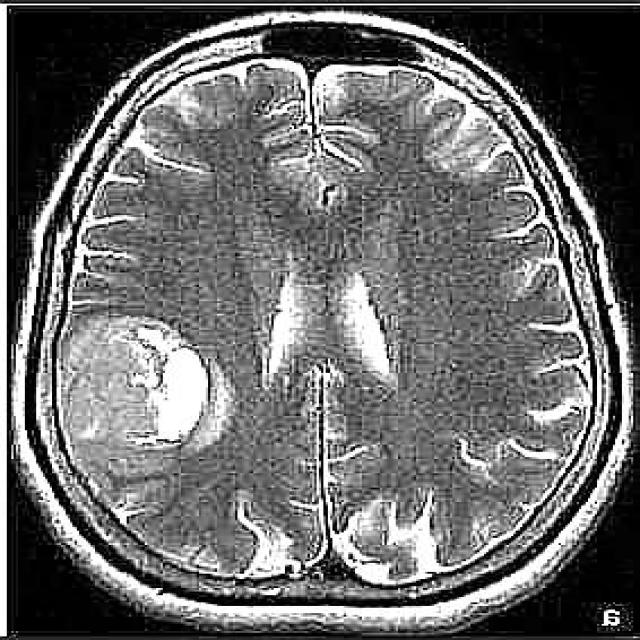Tumor-Cell: (72, 288, 258, 477)
